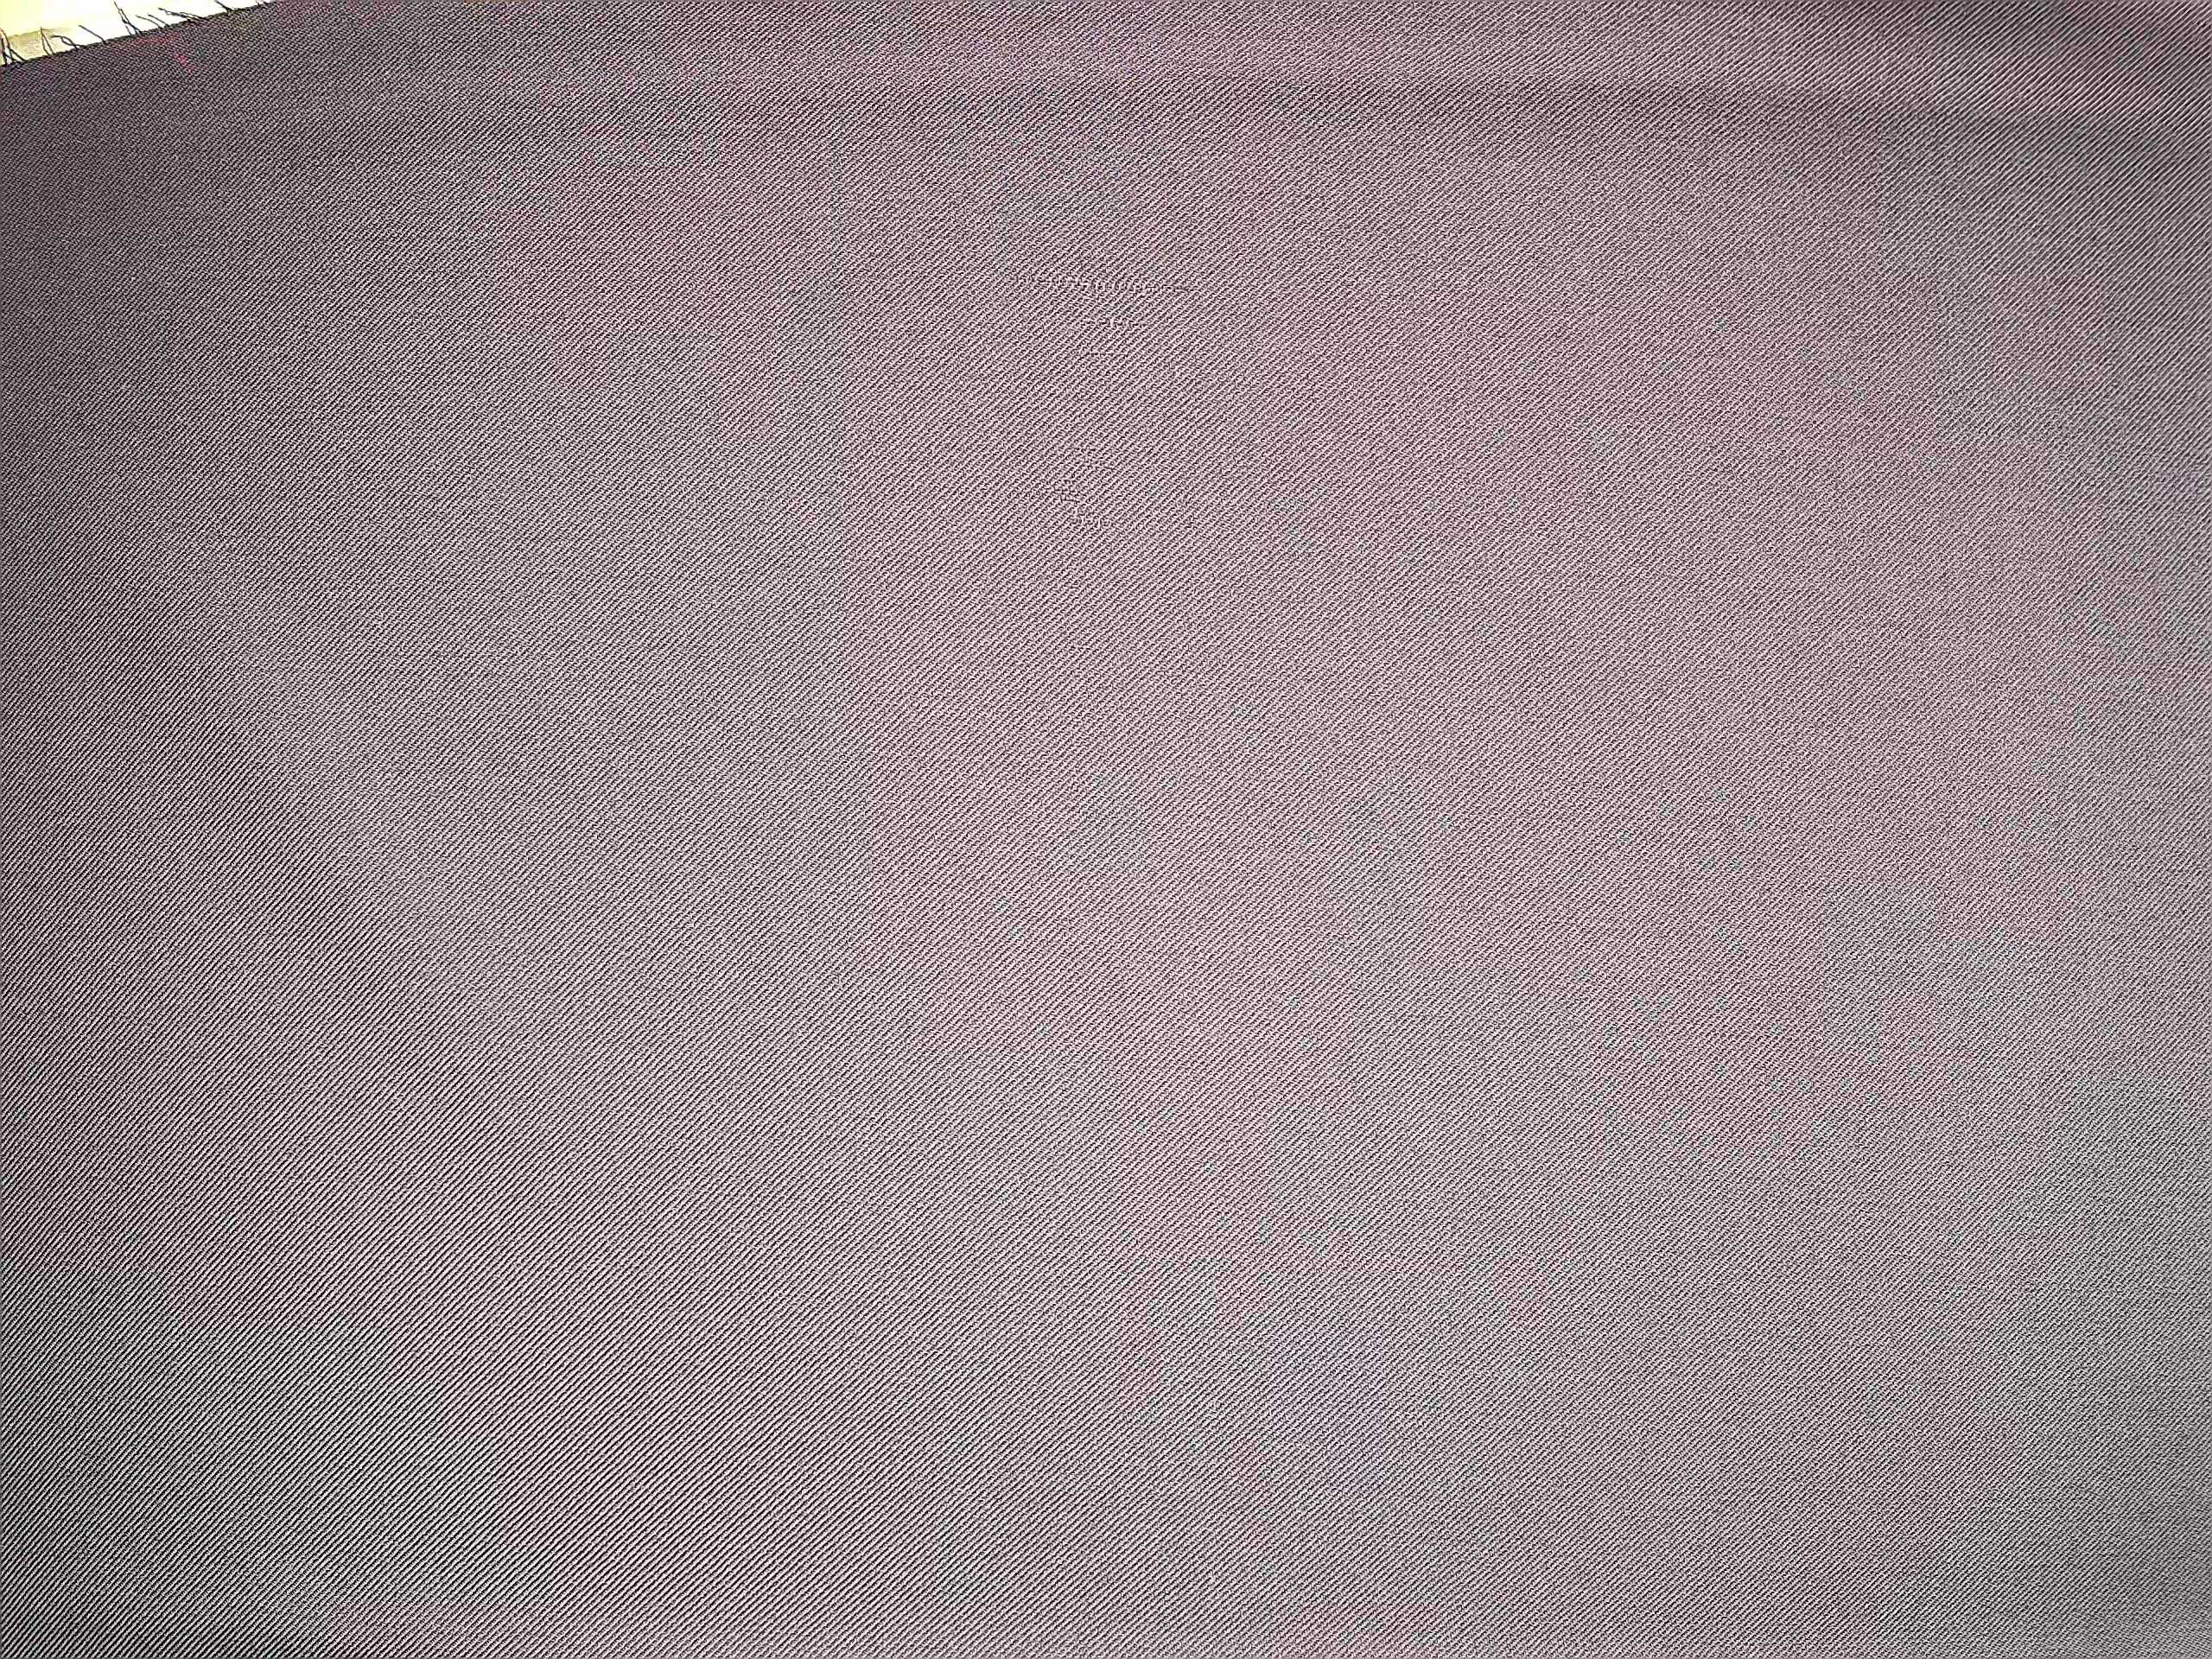jumps: (989, 235, 1226, 582)
